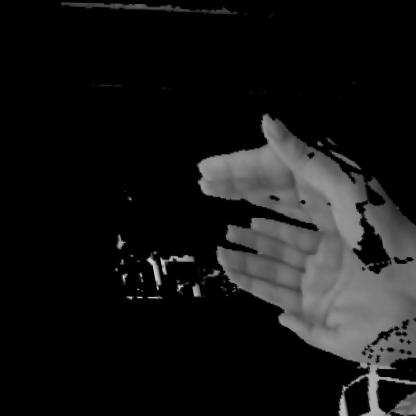dua: (154, 79, 415, 405)
